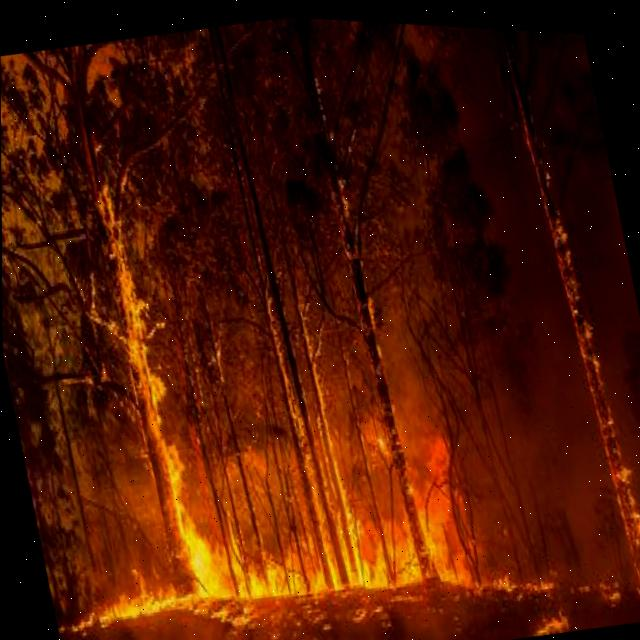fire: (92, 194, 208, 608), (179, 495, 494, 626), (547, 213, 640, 591), (85, 589, 179, 628)
smoke: (459, 160, 615, 571), (376, 278, 462, 423)
